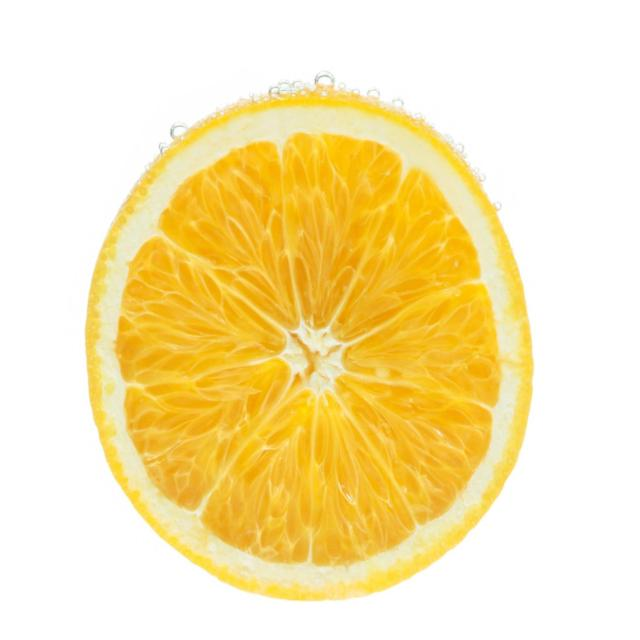lemon: (75, 77, 540, 611)
